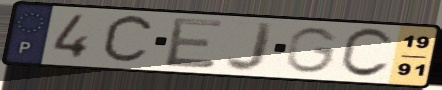4: (50, 13, 92, 61)
C: (98, 12, 158, 67), (337, 26, 396, 80)
E: (163, 15, 226, 70)
G: (284, 26, 342, 75)
J: (223, 20, 277, 74)
